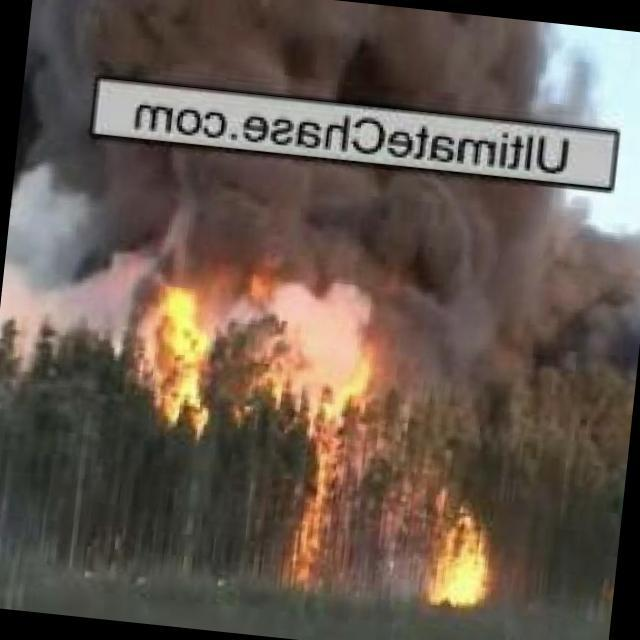Fire: (269, 372, 373, 599), (121, 269, 229, 442), (423, 503, 500, 601)
